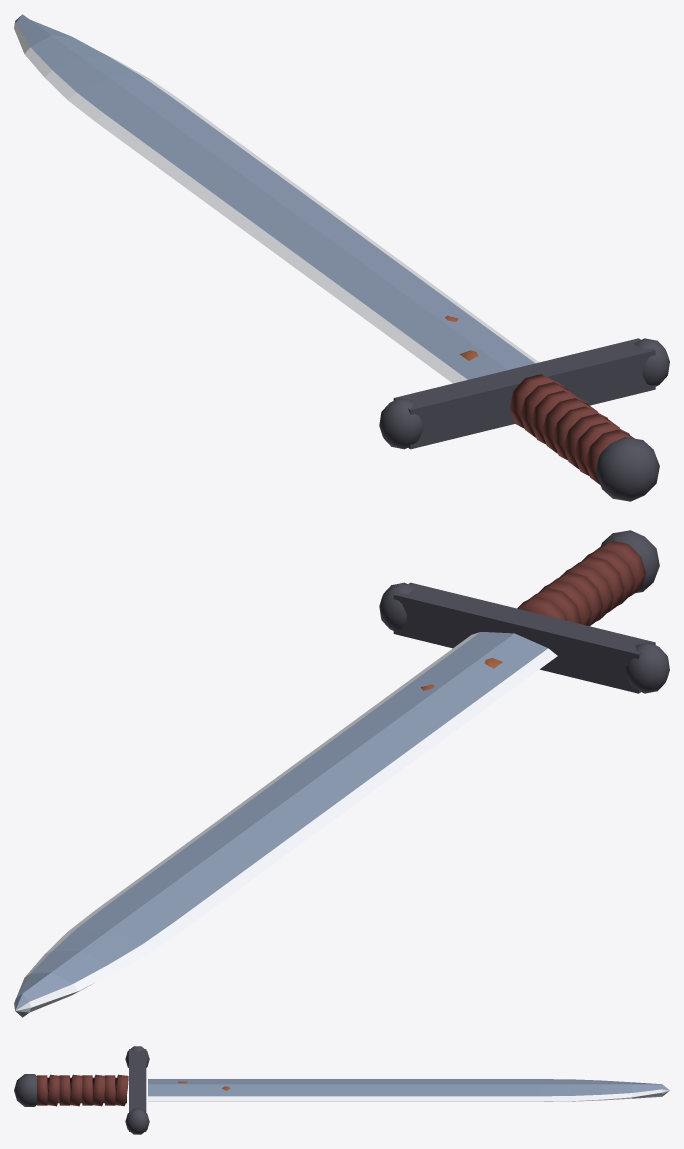
File: weapon_hannes_shortsword.glb
3 views of the same model, one above another, from view 1: azimuth 30°, elevation 25°; view 2: azimuth 150°, elevation 25°; view 3: azimuth 270°, elevation 25° (orthographic). The views are drawn at different scales.
Visible parts, largest first — view 1: piece; view 2: piece; view 3: piece.
Part boxes in pixels (bbox=[...]): piece: bbox=[14, 14, 669, 501]; piece: bbox=[14, 530, 669, 1017]; piece: bbox=[14, 1046, 669, 1134].
Size of the model in its own units: 0.1966 by 0.04 by 0.754.
